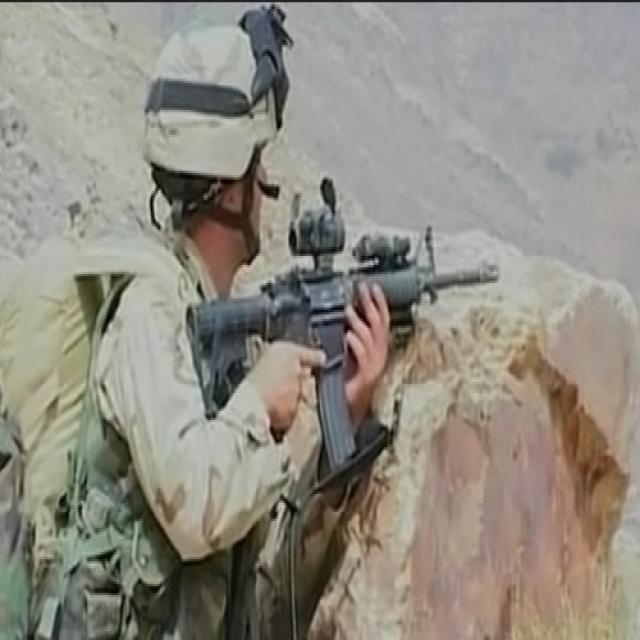rifle: (188, 175, 501, 480)
